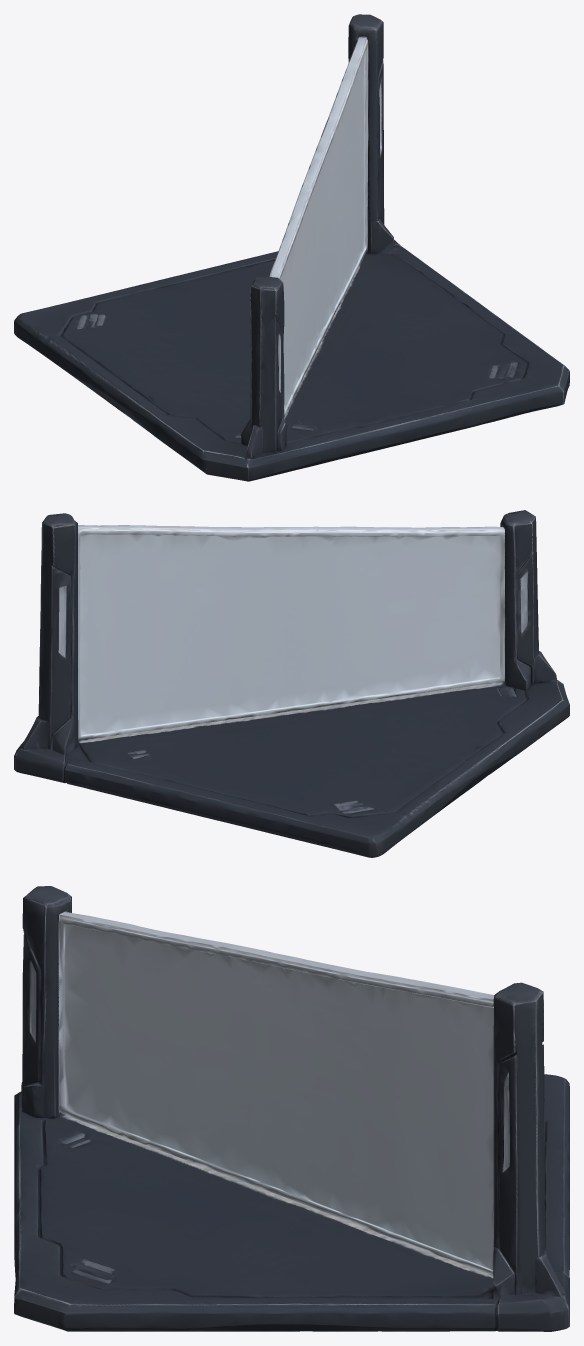
Rendered from tripo_convert_30e0629d-8d51-4bab-94a9-357d93318e0f.fbx.
The picture shows the model from 3 angles, top to bottom: view 1: azimuth 30°, elevation 25°; view 2: azimuth 150°, elevation 25°; view 3: azimuth 270°, elevation 25°; orthographic projection. The views are drawn at different scales.
Visible parts, largest first — view 1: tripo_node_30e0629d; view 2: tripo_node_30e0629d; view 3: tripo_node_30e0629d.
Boxes of the visible parts, x1=… form: tripo_node_30e0629d: x1=14, y1=14, x2=569, y2=481; tripo_node_30e0629d: x1=14, y1=510, x2=569, y2=857; tripo_node_30e0629d: x1=14, y1=886, x2=569, y2=1331.
Size of the model in its own units: 0.9783 by 0.6288 by 0.9789.
Materials: 1 (1 with a texture image).
